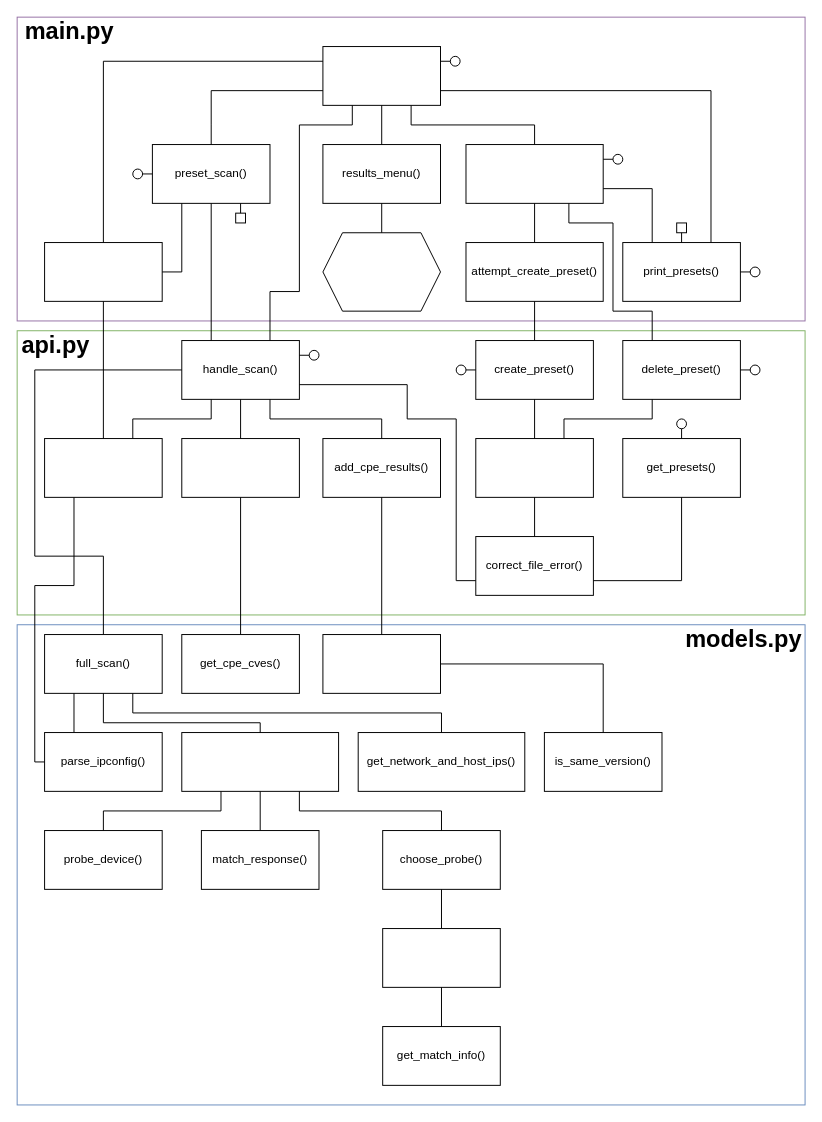
The diagram is 822 pixels wide and 1122 high, and some of its shapes have lost their labels. The shapes that lost their labels are listed below. From the top down, each one's box as (x1, y1, x2, y2) in pixels, then its label:
(322, 46, 441, 105): main_menu()
(465, 144, 603, 203): manage_presets_menu()
(44, 242, 162, 301): choose_interfaces()
(322, 232, 441, 311): Results menu subroutine group
(44, 438, 162, 497): get_interfaces()
(181, 438, 299, 497): add_cve_results()
(475, 438, 593, 497): write_to_presets()
(322, 634, 441, 693): info_to_cpe()
(181, 732, 339, 791): choose_and_send_probe()
(382, 928, 500, 987): get_nmap_probes()
